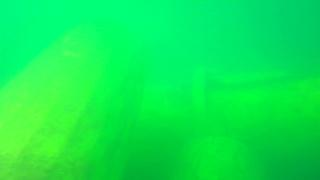pipe: (1, 11, 158, 180), (125, 63, 320, 175), (155, 134, 271, 180)
